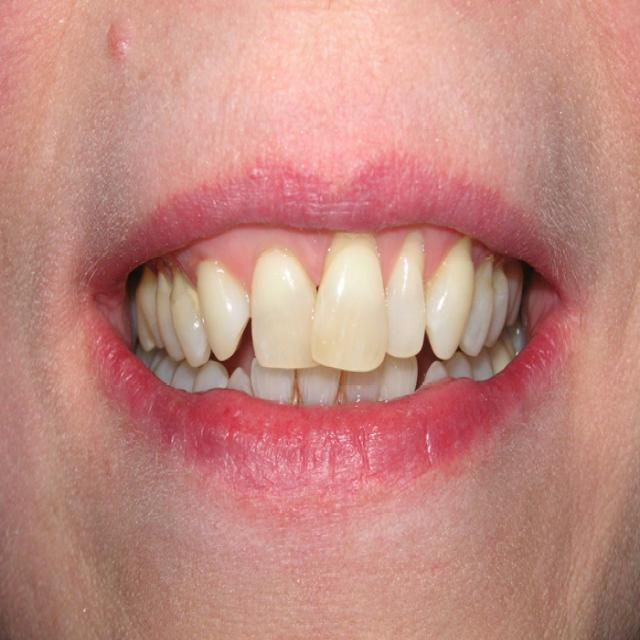tooth: (317, 246, 388, 366), (253, 255, 316, 372), (198, 252, 252, 362), (425, 242, 474, 358), (384, 255, 430, 353), (454, 256, 494, 362), (168, 278, 216, 362), (153, 278, 183, 358), (485, 260, 509, 345), (251, 364, 296, 404), (501, 262, 526, 327), (380, 357, 418, 394), (298, 369, 339, 401), (340, 370, 380, 402), (444, 355, 480, 389), (188, 364, 228, 392), (141, 286, 159, 348), (420, 357, 454, 387), (130, 286, 145, 352), (148, 353, 177, 383), (472, 362, 504, 385), (228, 362, 252, 391), (499, 328, 525, 352), (176, 364, 195, 389), (492, 345, 511, 368)
